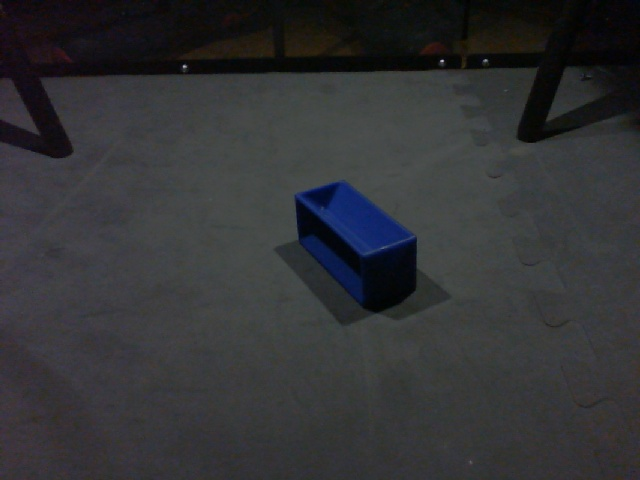BlueSample: (290, 175, 419, 313)
